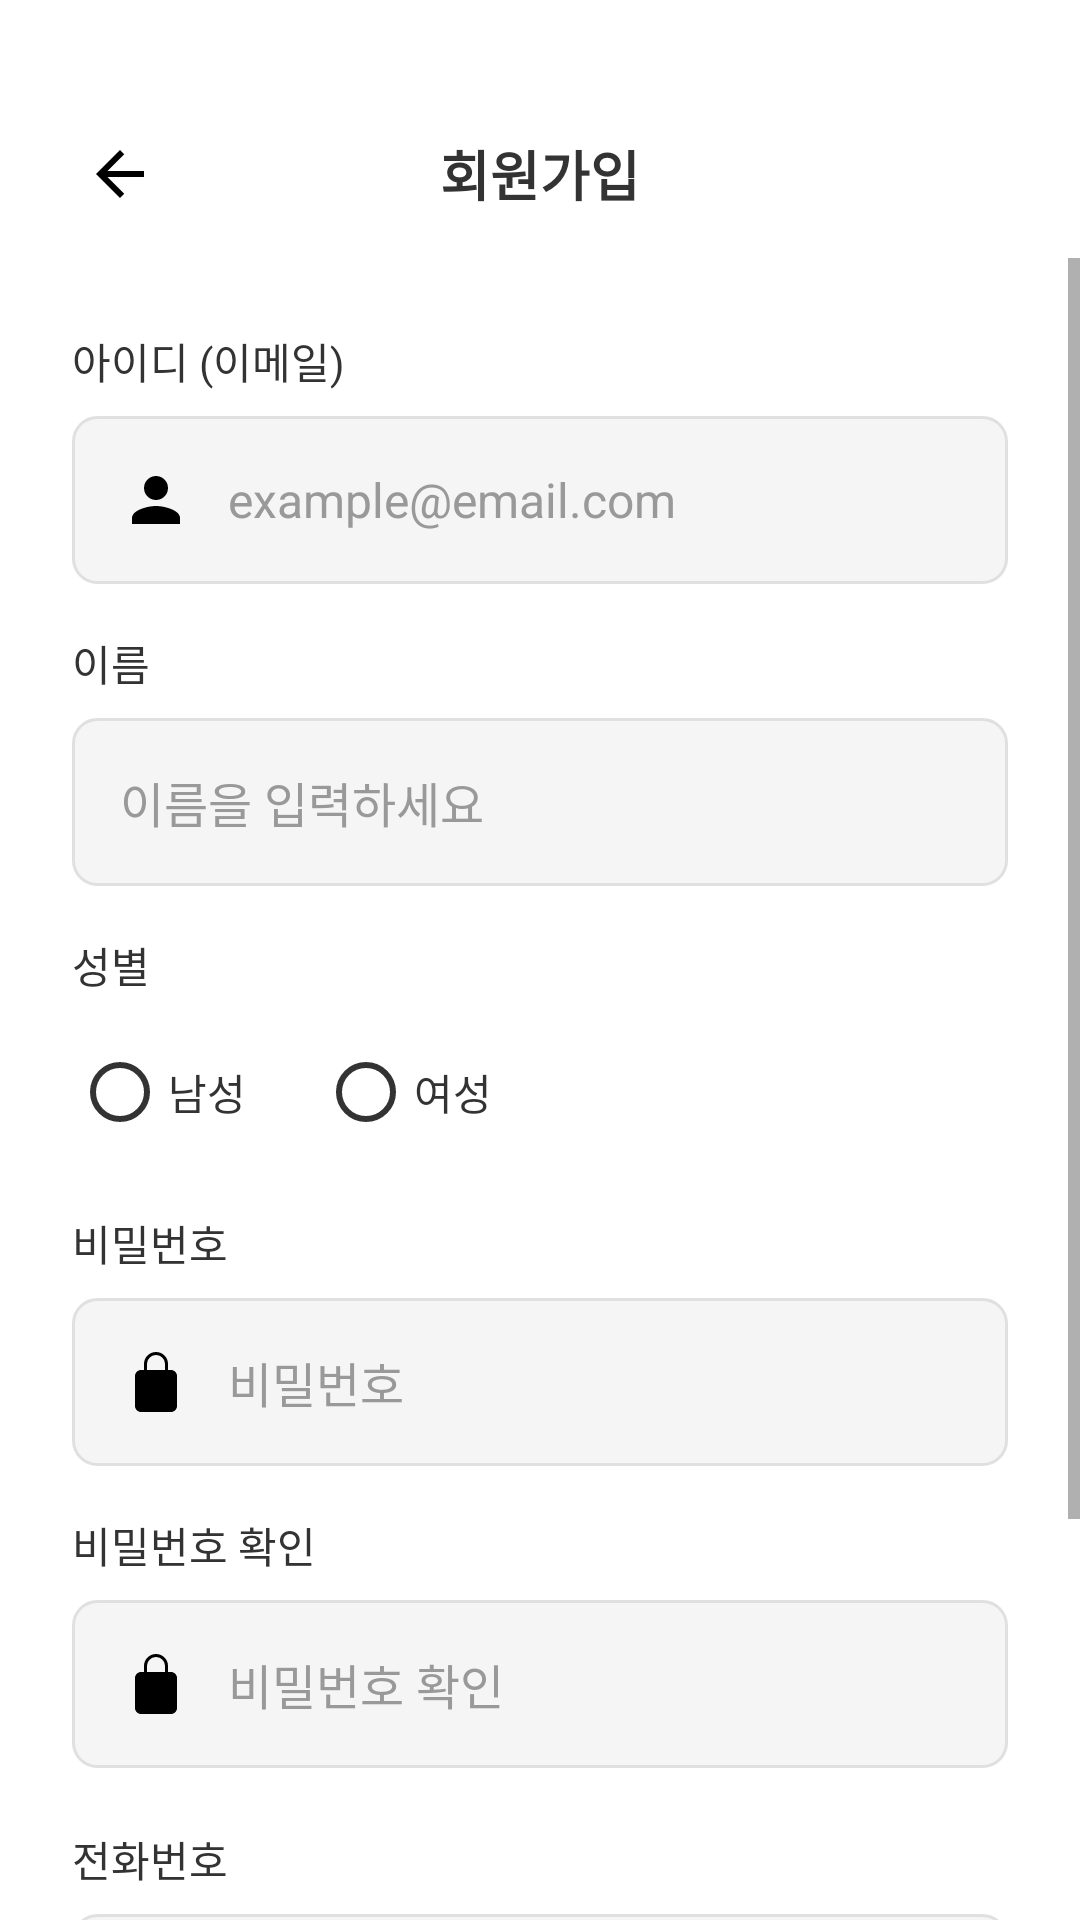

Screen size 1080w x 1920h. Icon name, then its box in pixels as (x1, y1, x2, y2):
arrow back: (96, 150, 144, 198)
